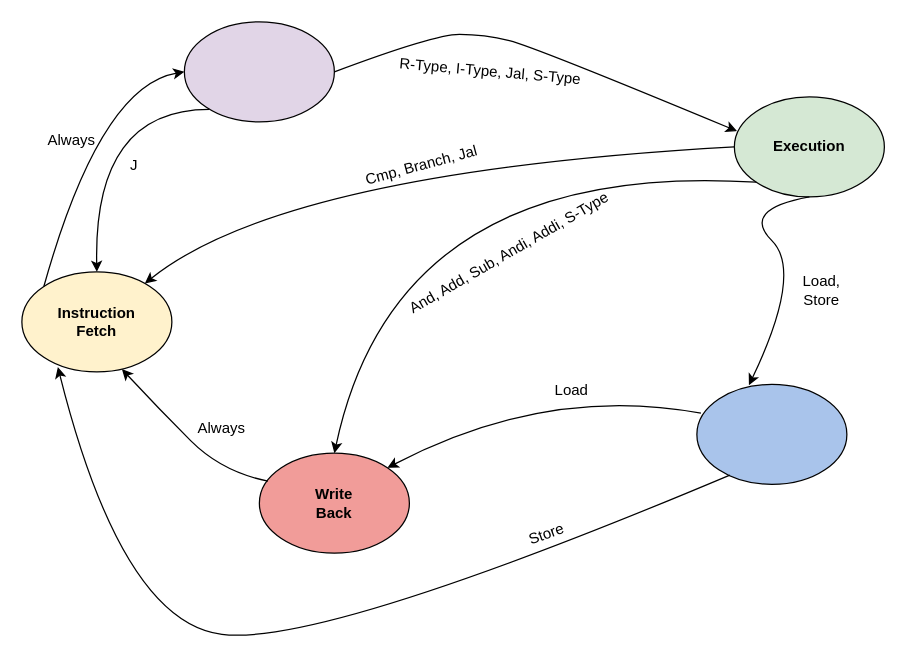
This 906x658 diagram has some shape labels left out. Each missing label, with the centre of its shape:
"Instruction Decode" goes at [258,71].
"Memory" goes at [771,433].
